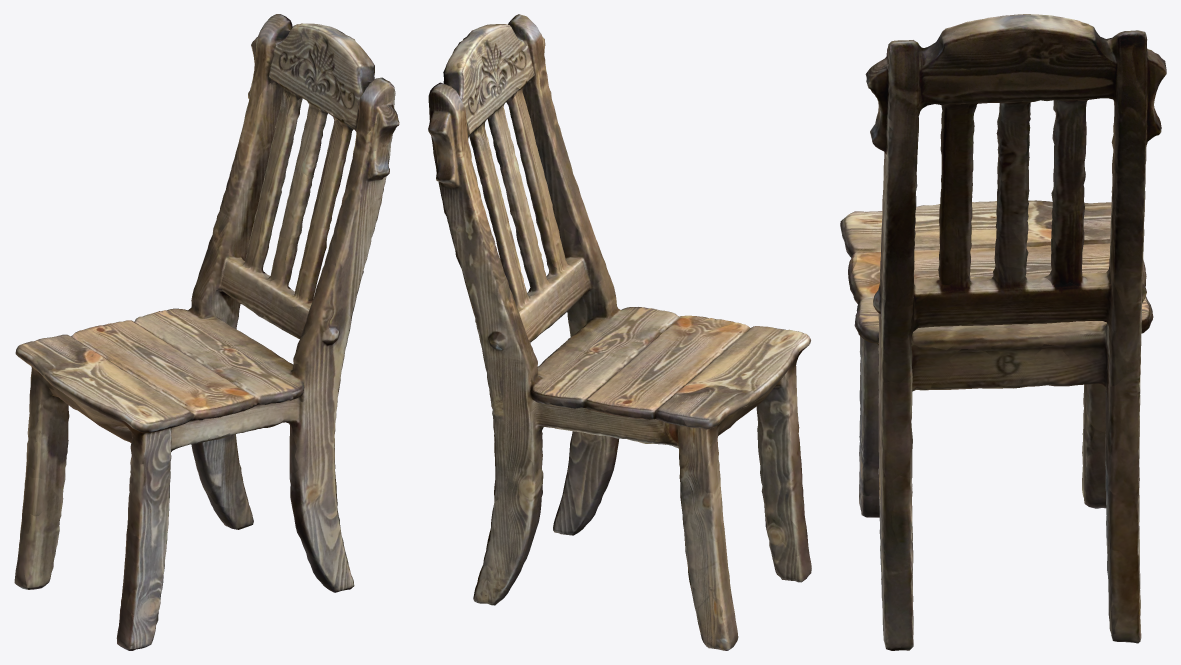
The model's file is Orion.glb.
3 views of the same model, side by side, from view 1: azimuth 30°, elevation 25°; view 2: azimuth 150°, elevation 25°; view 3: azimuth 270°, elevation 25° (orthographic). The views are drawn at different scales.
Parts seen in each view (by area): view 1: Geom3D; view 2: Geom3D; view 3: Geom3D.
Part boxes in pixels (x1,y1,x2,y2): Geom3D: [14, 14, 399, 650]; Geom3D: [428, 14, 811, 650]; Geom3D: [840, 14, 1166, 650].
Size of the model in its own units: 0.6048 by 0.9898 by 0.4461.
Materials: 1 (1 with a texture image).
